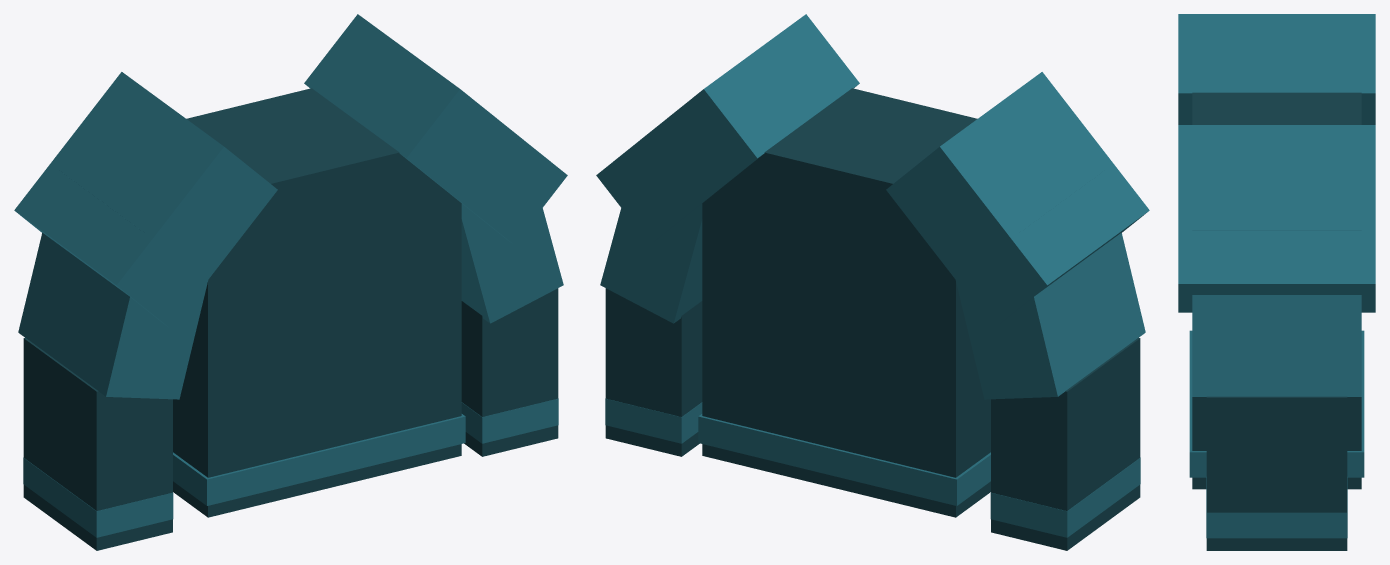
File: IceArmor.fbx
3 views of the same model, side by side, from view 1: azimuth 30°, elevation 25°; view 2: azimuth 150°, elevation 25°; view 3: azimuth 270°, elevation 25° (orthographic). The views are drawn at different scales.
Parts seen in each view (by area): view 1: Cube.001, Cube.007, Cube.006, Cube.002, Cube.003, Cube.008, Cube.009, Cube.010; view 2: Cube.001, Cube.007, Cube.006, Cube.002, Cube.003, Cube.008, Cube.009, Cube.010; view 3: Cube.006, Cube.003, Cube.007, Cube.001, Cube.010, Cube.008.
Boxes of the visible parts, box(x1,y1,x2,y2) form: Cube.001: box(173, 88, 461, 517); Cube.007: box(14, 72, 277, 399); Cube.006: box(304, 14, 567, 323); Cube.002: box(23, 337, 172, 550); Cube.003: box(461, 288, 558, 456); Cube.008: box(173, 414, 465, 505); Cube.009: box(23, 457, 173, 537); Cube.010: box(461, 398, 558, 443); Cube.001: box(702, 88, 990, 517); Cube.007: box(886, 72, 1149, 399); Cube.006: box(596, 14, 859, 323); Cube.002: box(991, 337, 1140, 550); Cube.003: box(605, 288, 702, 456); Cube.008: box(698, 414, 990, 505); Cube.009: box(990, 457, 1140, 537); Cube.010: box(605, 398, 702, 443); Cube.006: box(1178, 125, 1375, 396); Cube.003: box(1206, 396, 1347, 550); Cube.007: box(1178, 14, 1375, 124); Cube.001: box(1192, 92, 1361, 489); Cube.010: box(1206, 477, 1347, 538); Cube.008: box(1189, 330, 1364, 477).
Bounding box in the file's own units: 182 × 146 × 70.
